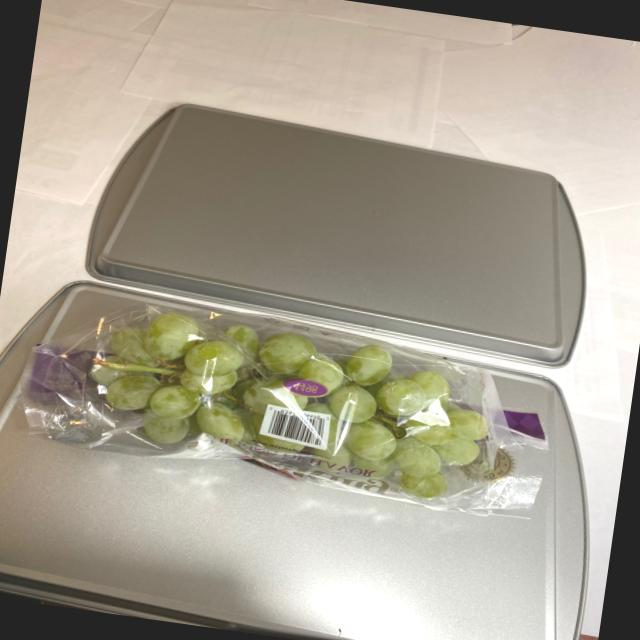grapes: (63, 297, 543, 508)
